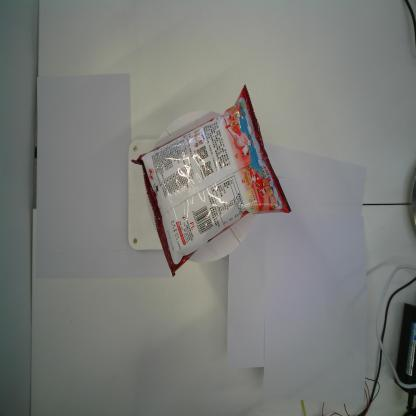Puffed Food: (131, 84, 292, 278)
